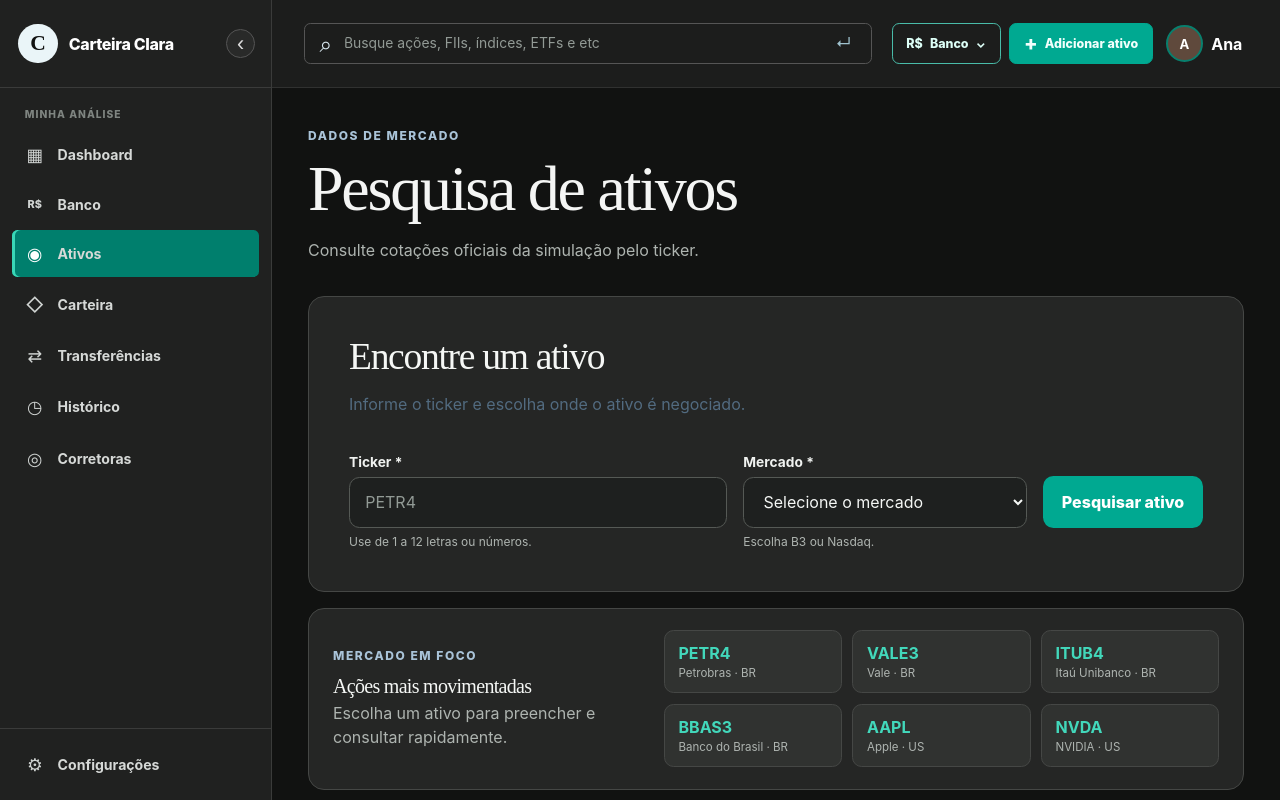
Test: assets private route › distingue resultado vazio de erro
This screenshot has width=1280, height=800.
Expected: the heading "Pesquisa de ativos" is shown, [308,153,737,224]
Type "VAZIO" into the field labelled "Ticker *" at (538, 502), box [349,477,727,528]
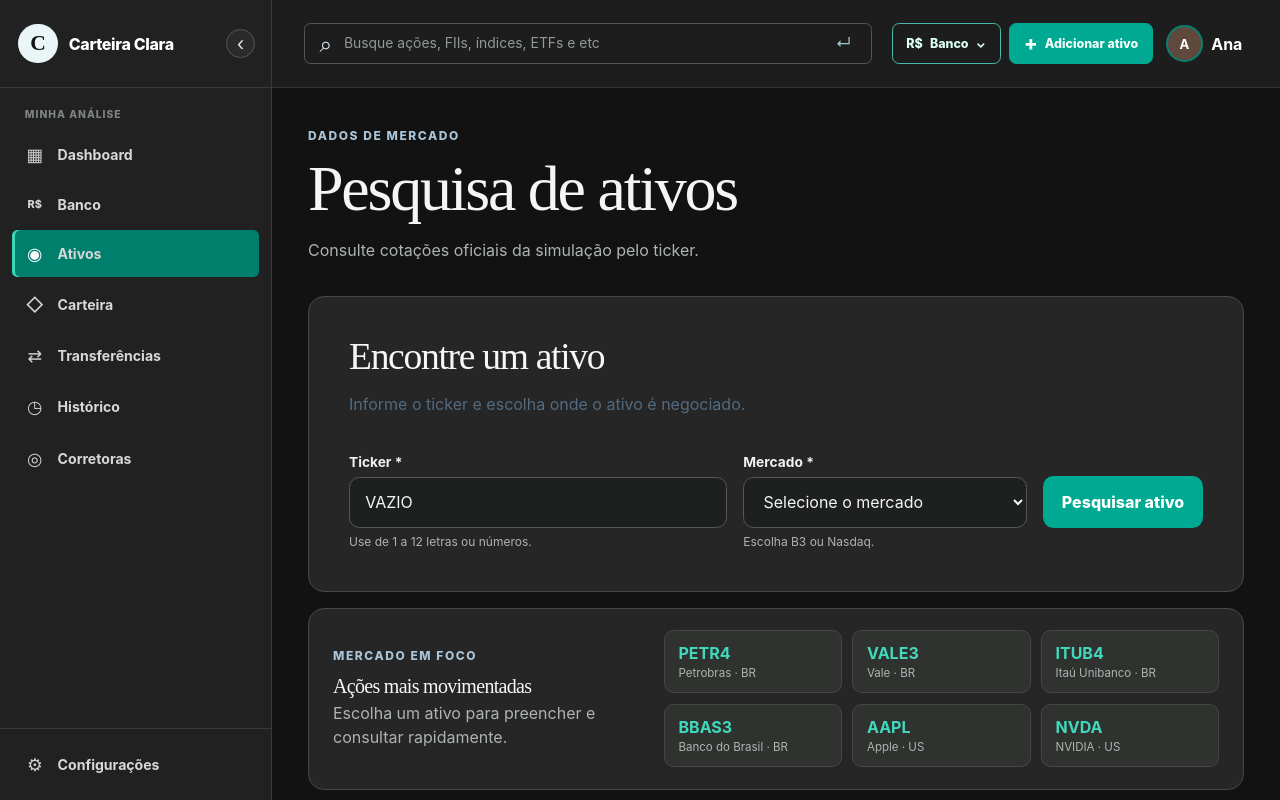
Select "B3" in the dropdown labelled "Mercado *" at (885, 502), box [743,477,1027,528]
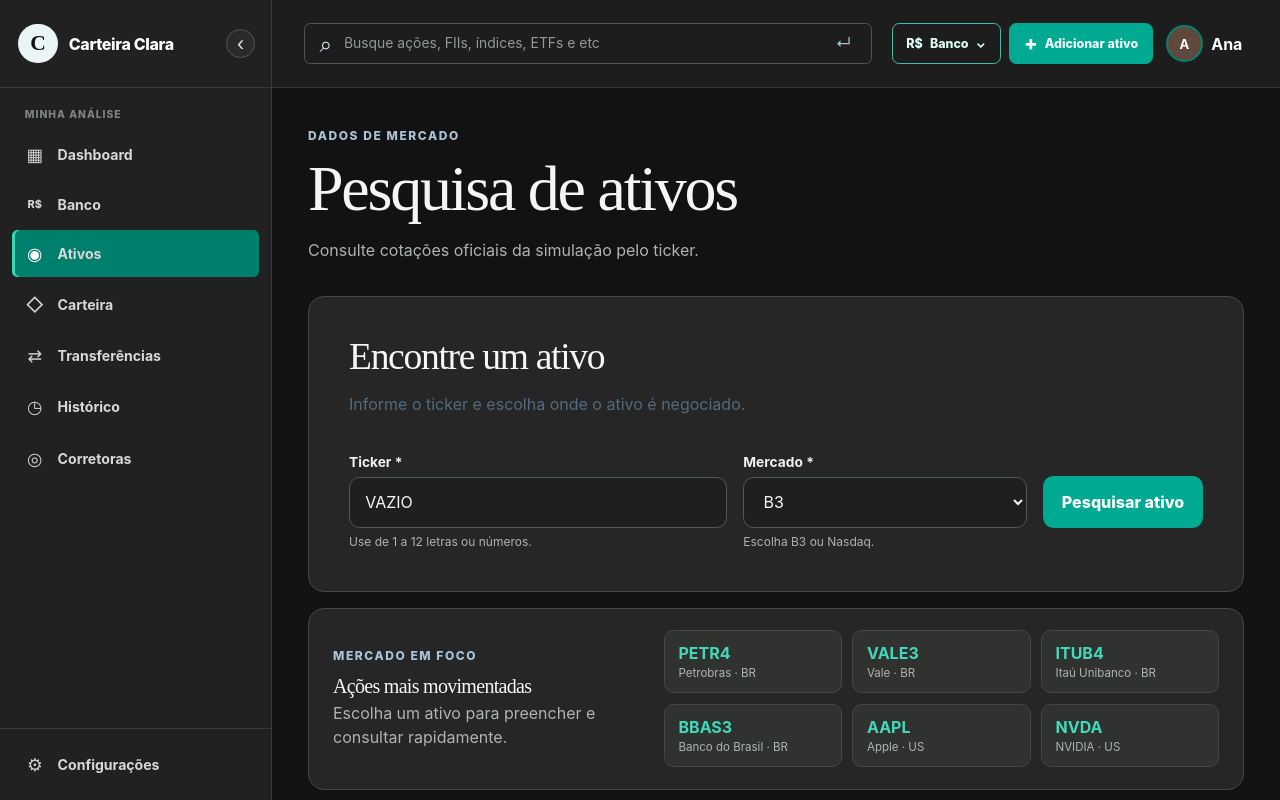
Click the button "Pesquisar ativo" at (1123, 502), box [1043,476,1203,528]
(page scrolled)
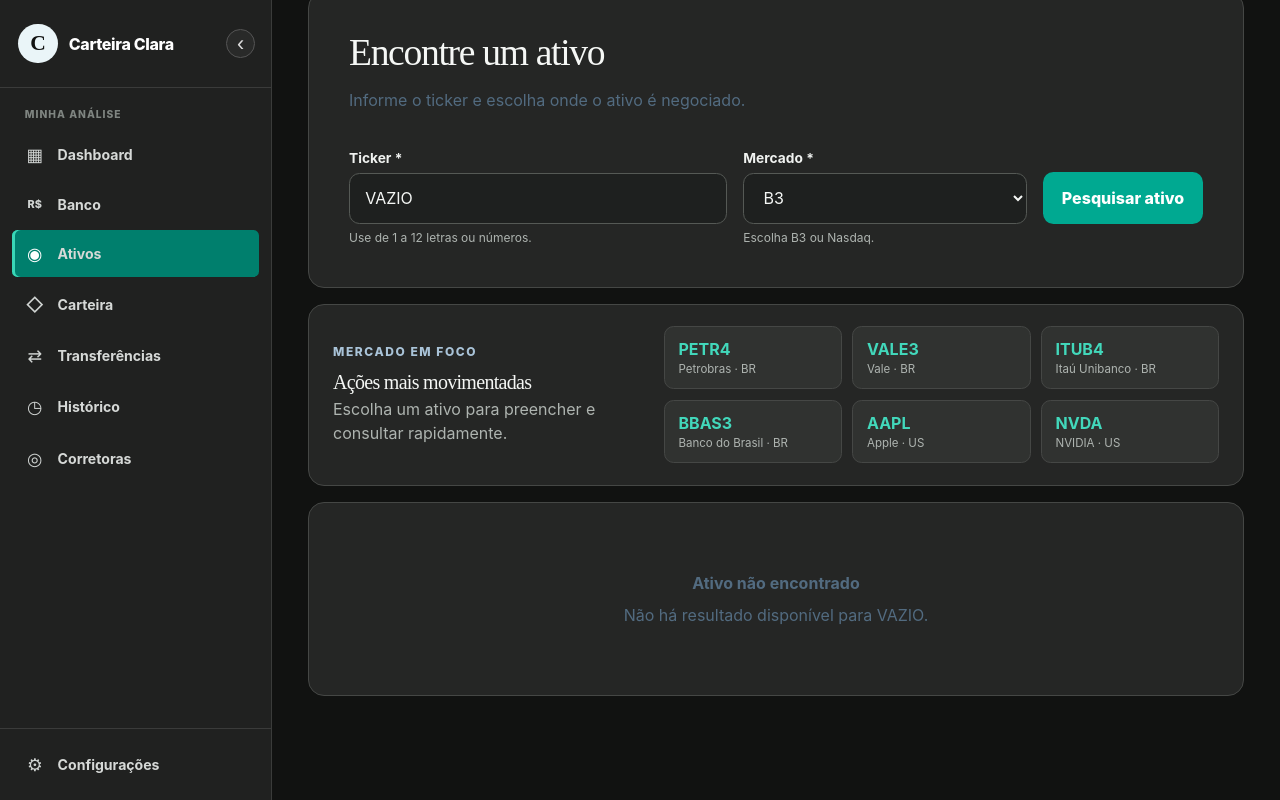
Result: the text "Ativo não encontrado" is shown at [692,572,860,592]
Result: the text "Não há resultado disponível para VAZIO." is shown at [624,604,928,624]
